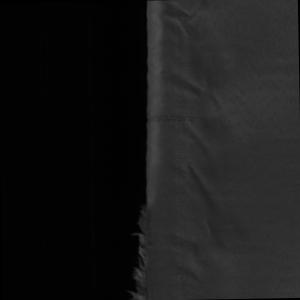Damage: (128, 199, 157, 300)
Wrinkle: (162, 1, 239, 300)
